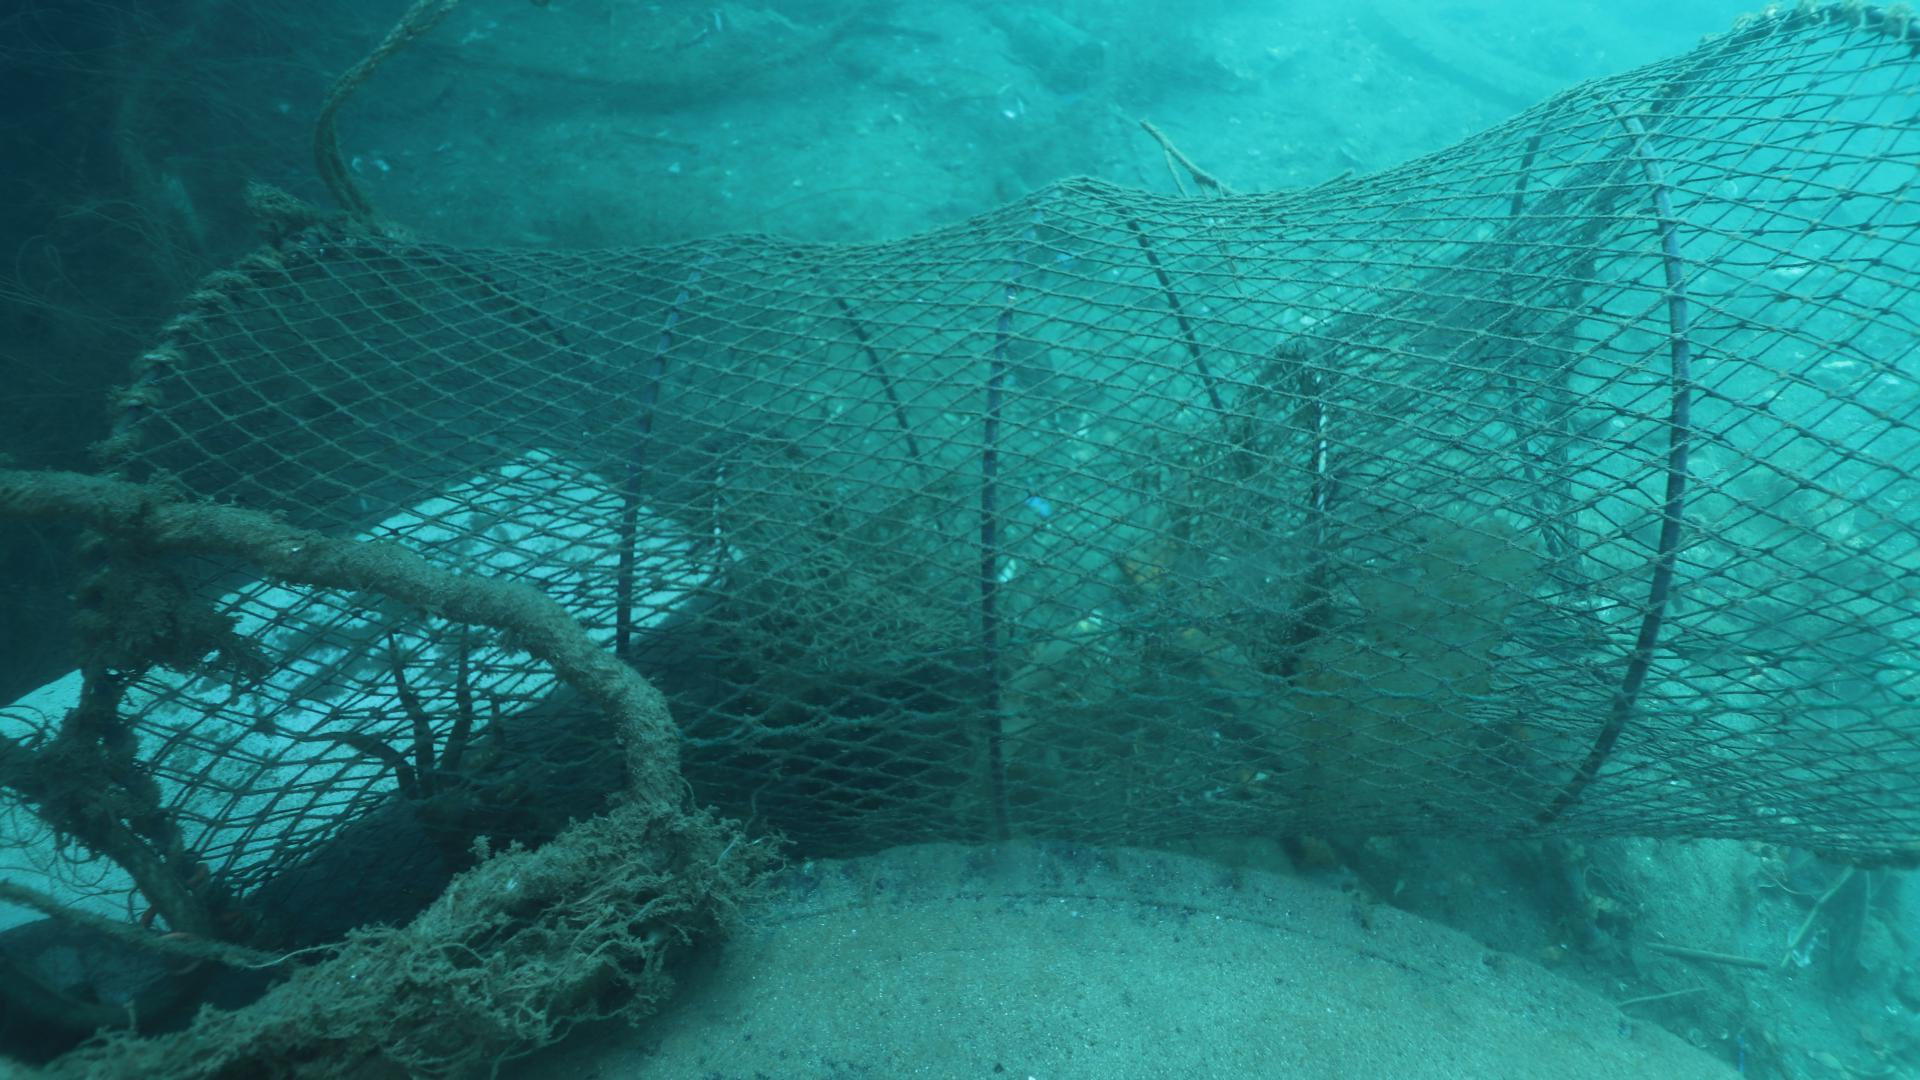bundle of ropes: (302, 0, 447, 231)
rope: (225, 11, 936, 80), (104, 0, 224, 264)
spring fish trap: (71, 0, 1920, 951)
